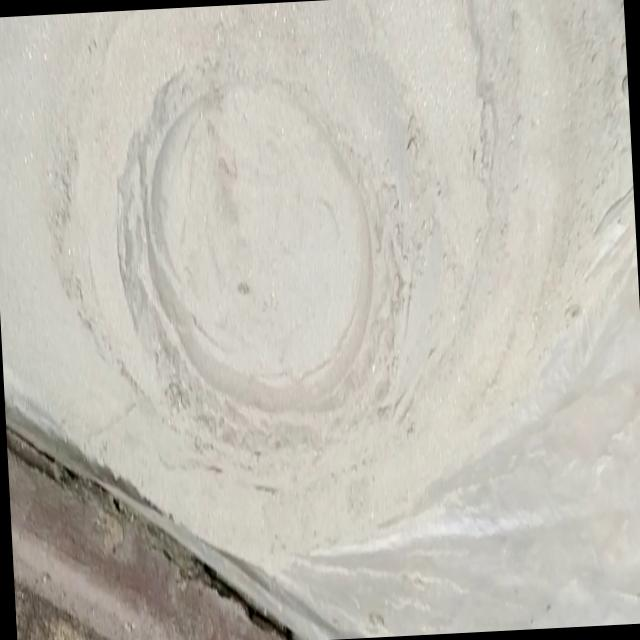C40: (148, 102, 372, 411)
